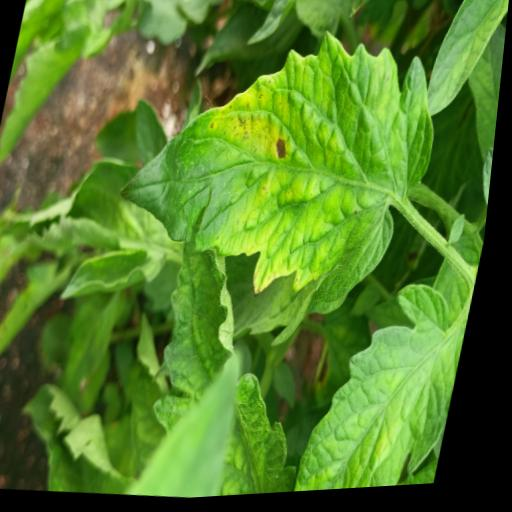Early Blight: (99, 18, 457, 329)
